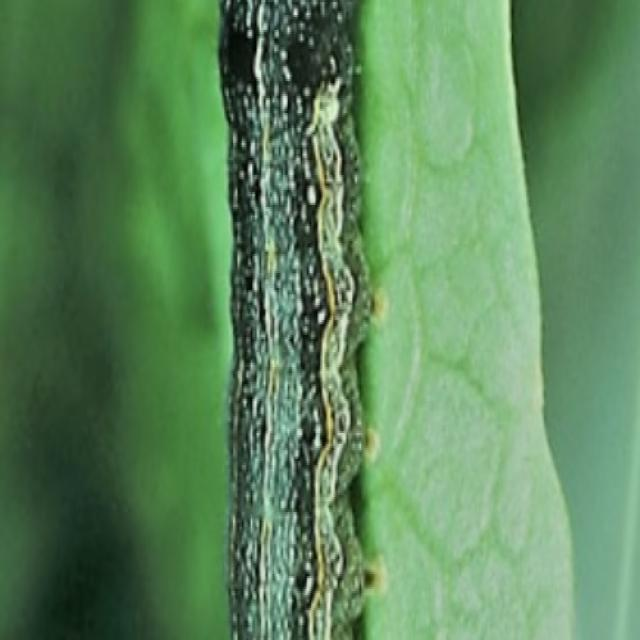armyworm: (215, 0, 383, 638)
